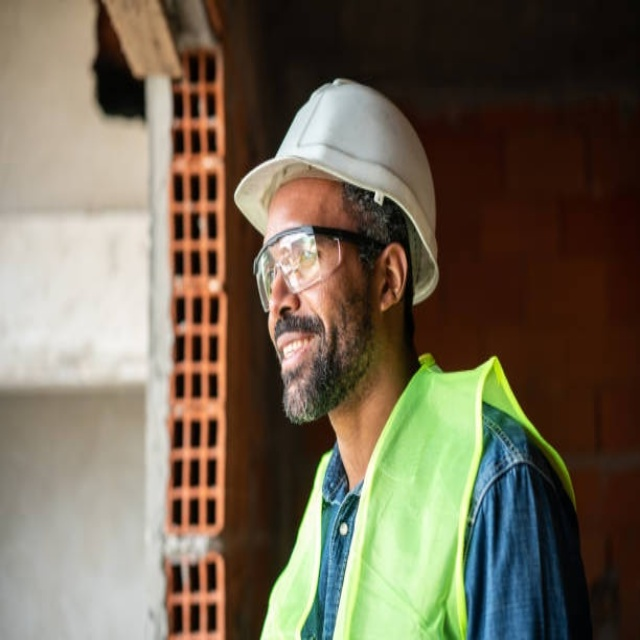Gafas: (252, 225, 379, 311)
Sin_mascara: (273, 317, 336, 409)
